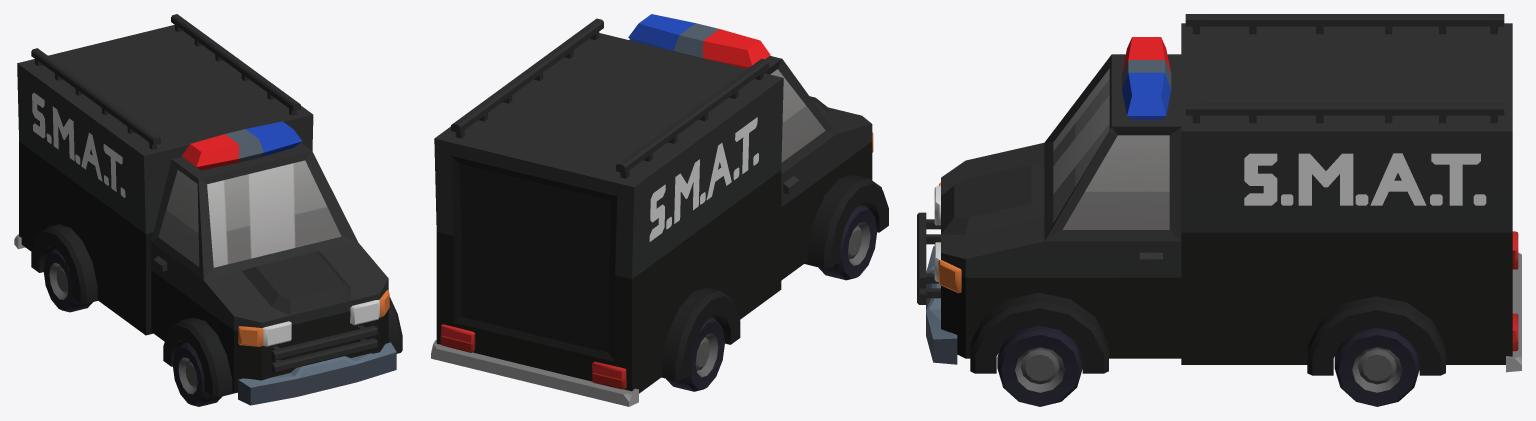
The model's file is SMAT.fbx.
3 views of the same model, side by side, from view 1: azimuth 30°, elevation 25°; view 2: azimuth 150°, elevation 25°; view 3: azimuth 270°, elevation 25° (orthographic). The views are drawn at different scales.
Visible parts, largest first — view 1: SMATCar, FR, BR; view 2: SMATCar, FR, BR; view 3: SMATCar, FL, BL.
Part boxes in pixels (<box>): SMATCar: <box>14,14,402,405</box>; FR: <box>172,342,222,406</box>; BR: <box>43,248,92,312</box>; SMATCar: <box>431,14,888,406</box>; FR: <box>818,204,877,280</box>; BR: <box>666,316,724,391</box>; SMATCar: <box>917,14,1521,375</box>; FL: <box>997,325,1082,406</box>; BL: <box>1334,327,1419,406</box>.
Size of the model in its own units: 123 by 132 by 251.
